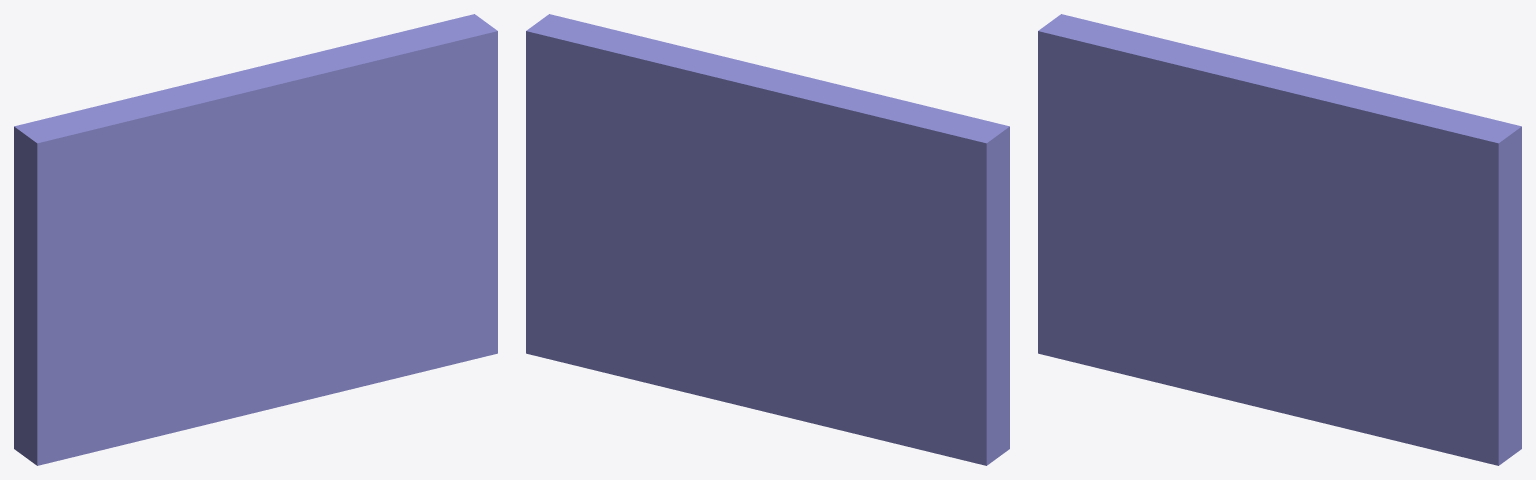
Rendered from SciFi_walkway_01_rail_short.DAE.
3 views of the same model, side by side, from view 1: azimuth 30°, elevation 25°; view 2: azimuth 150°, elevation 25°; view 3: azimuth 330°, elevation 25° (orthographic).
Parts seen in each view (by area): view 1: bounds; view 2: bounds; view 3: bounds.
Boxes of the visible parts, x1=… form: bounds: x1=14, y1=14, x2=497, y2=465; bounds: x1=526, y1=14, x2=1009, y2=465; bounds: x1=1038, y1=14, x2=1521, y2=465.
Bounding box in the file's own units: 318 × 27.83 × 213.
